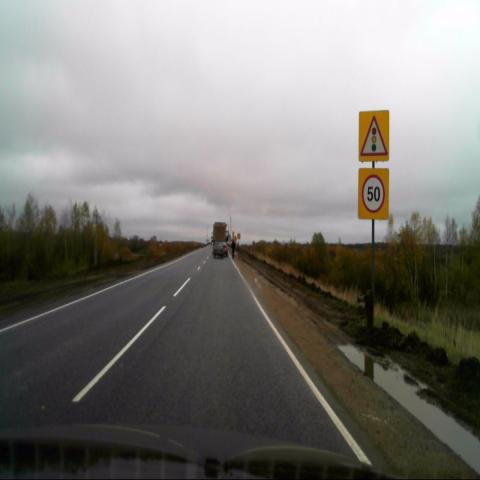1_8: (358, 110, 390, 164)
